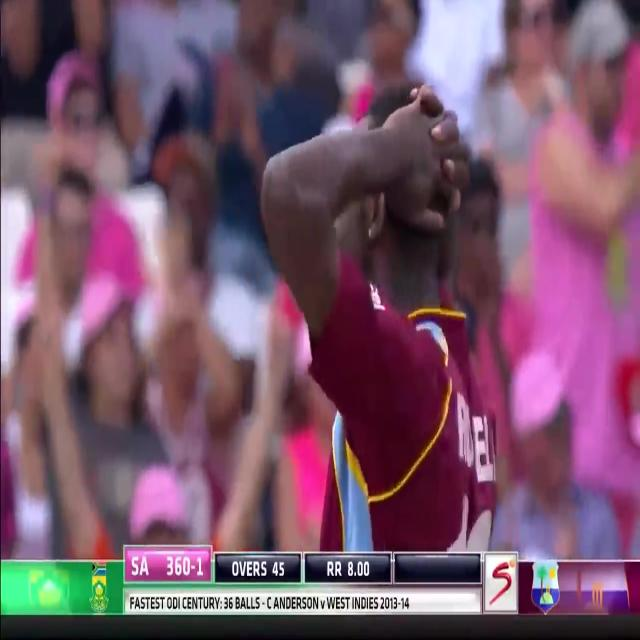Fielder: (211, 30, 545, 553)
